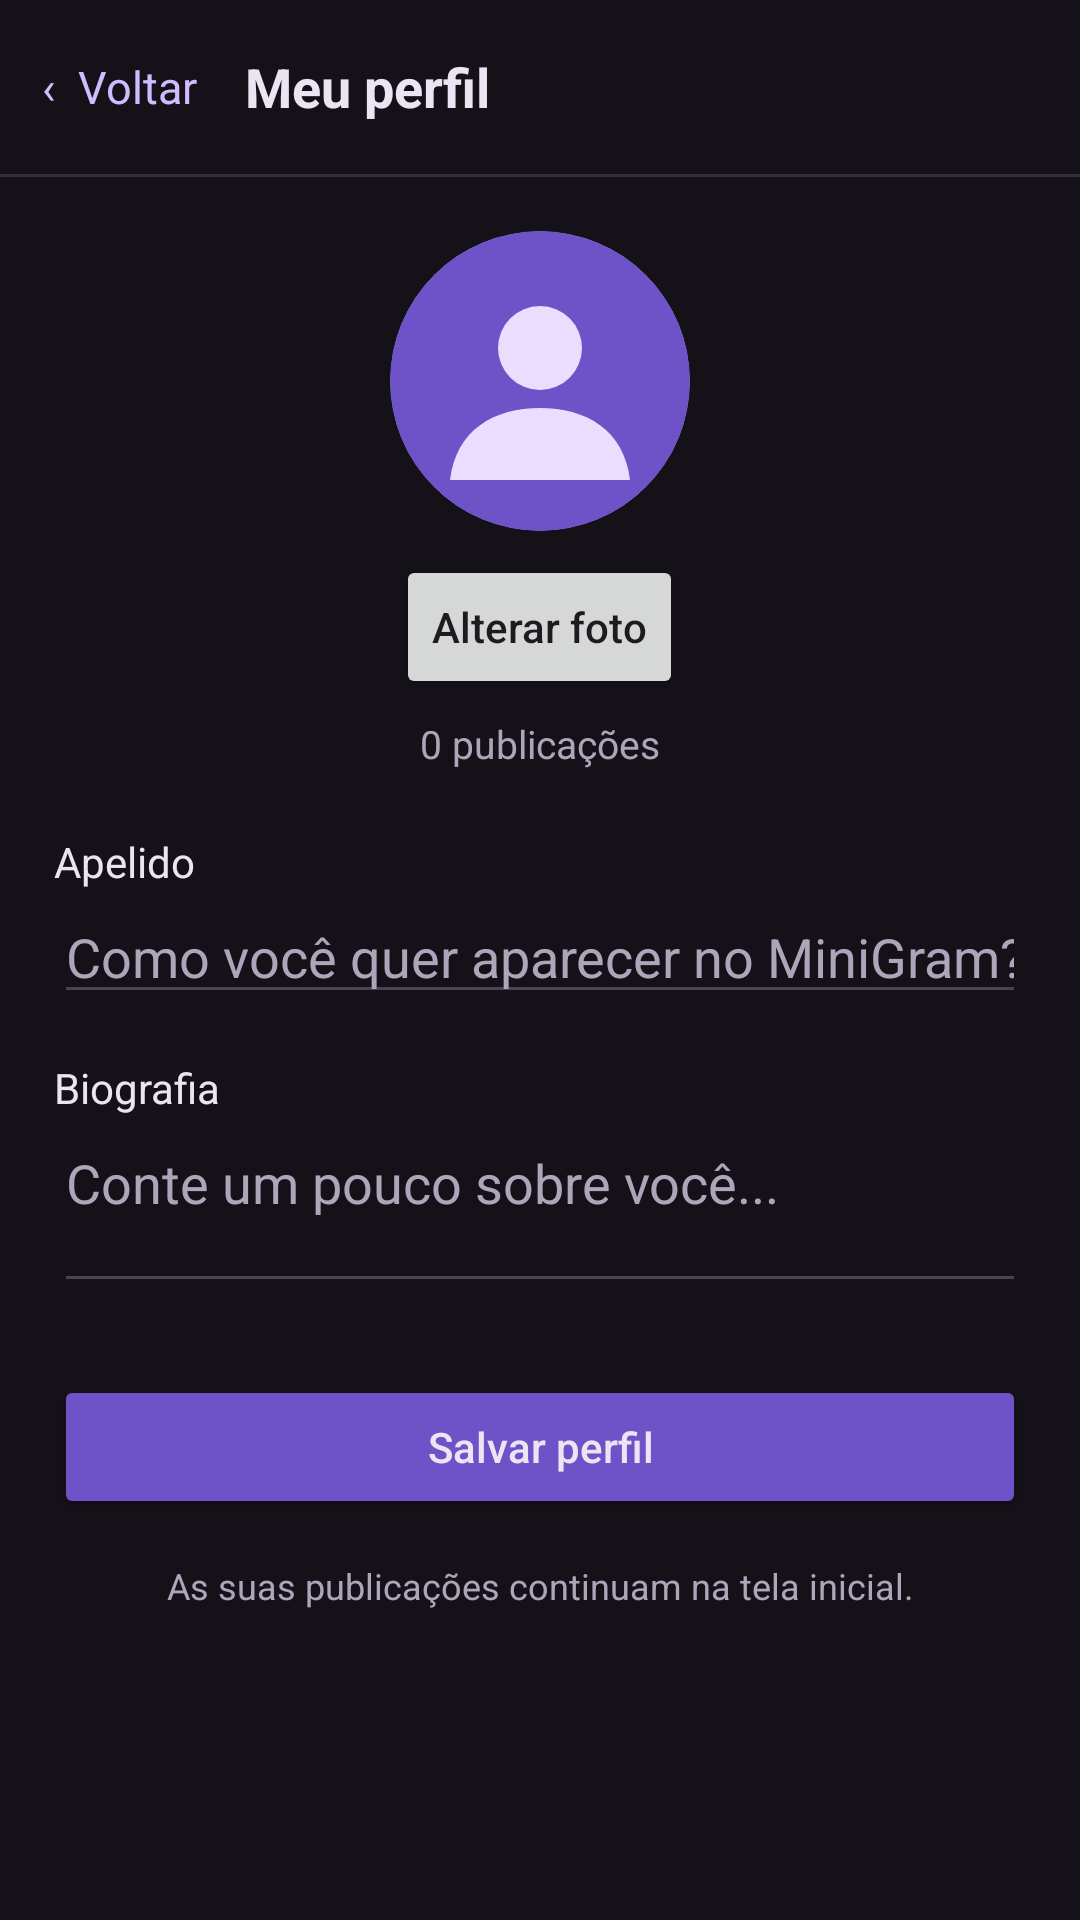

Screen size 1080x1920. Icon name, then its box in pixels as (x1, y1, x2, y2):
Foto do perfil: (390, 231, 690, 531)
